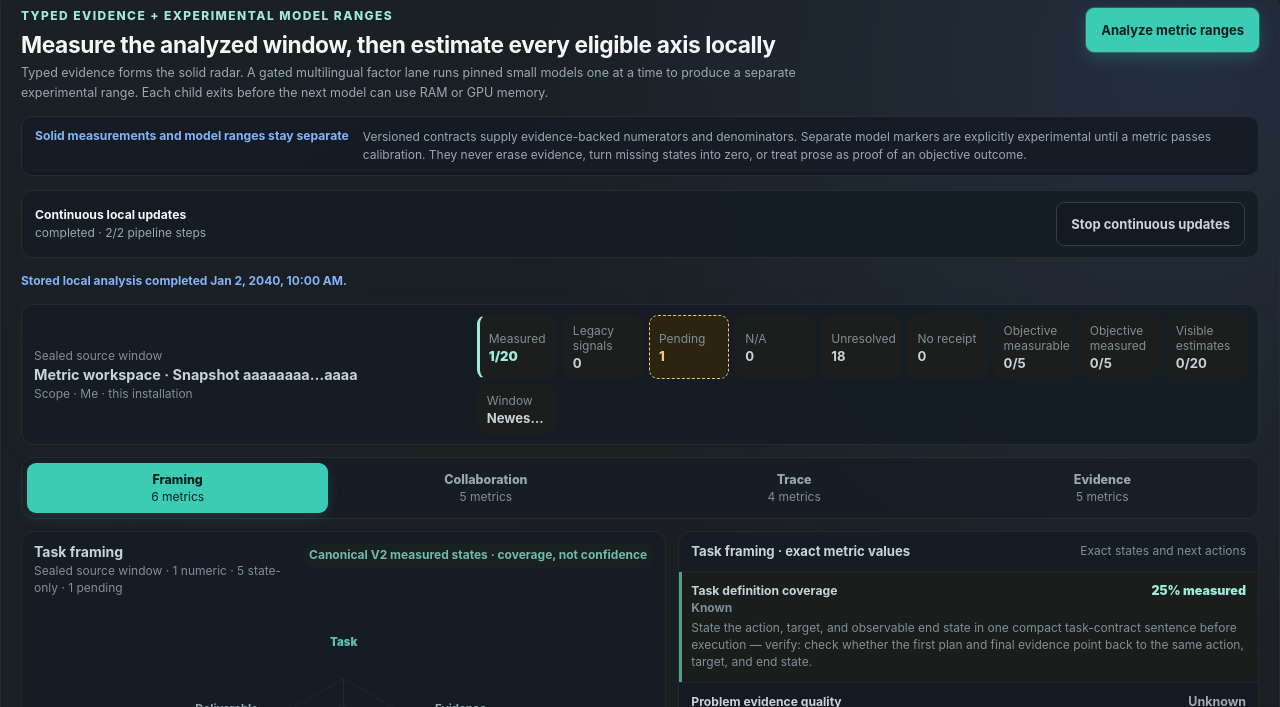
it: UI-03 through UI-07 synthetic integration tour › connects the canonical shell to sealed metric, help, history, stage, and generic-evidence actions
This screenshot has width=1280, height=707.
Later steps or results of the test are not shown.
expect the heading "Measure the analyzed window, then estimate every eligible axis locally" is shown: met, box [21,31,801,58]
expect the text "Sealed source window" is shown: met, box [34,348,162,363]
Click the button "Task definition coverage" at (969, 627), box [679,572,1258,682]
(page scrolled)
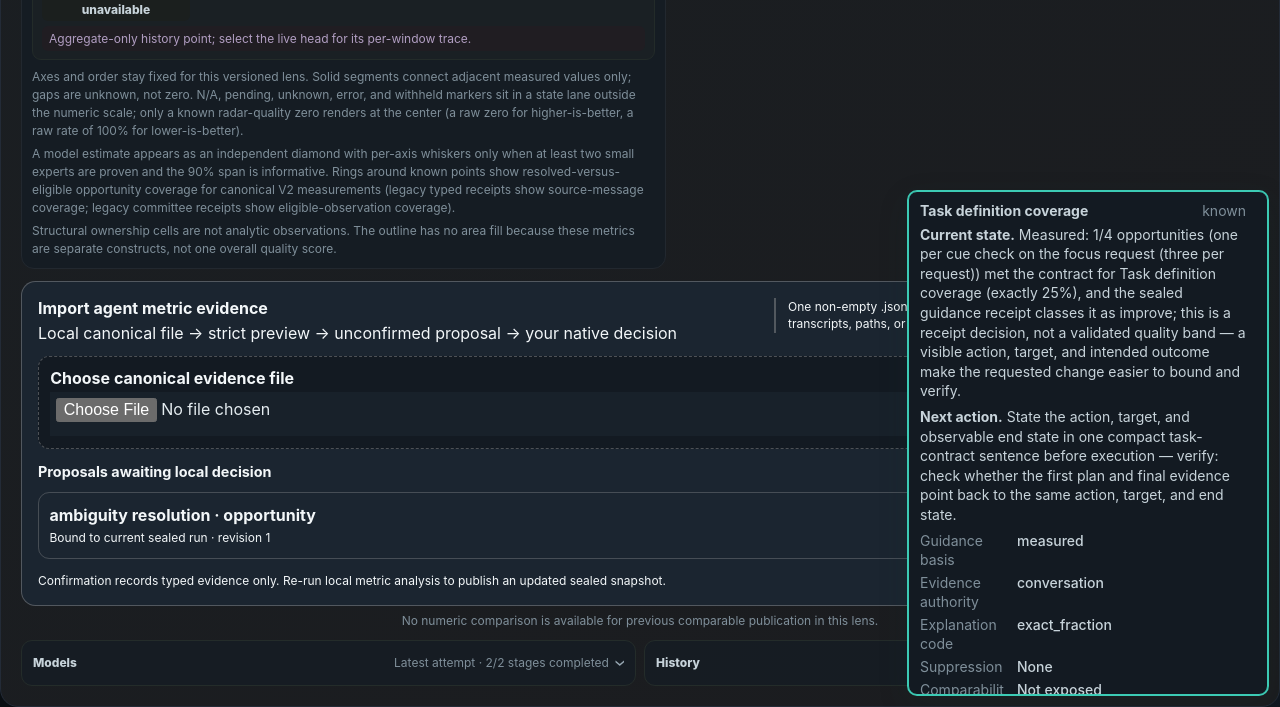
expect the text "Models" is shown: met, box [33,656,77,670]
expect the element named "Current metric guidance" is shown: met, box [920,225,1246,695]
